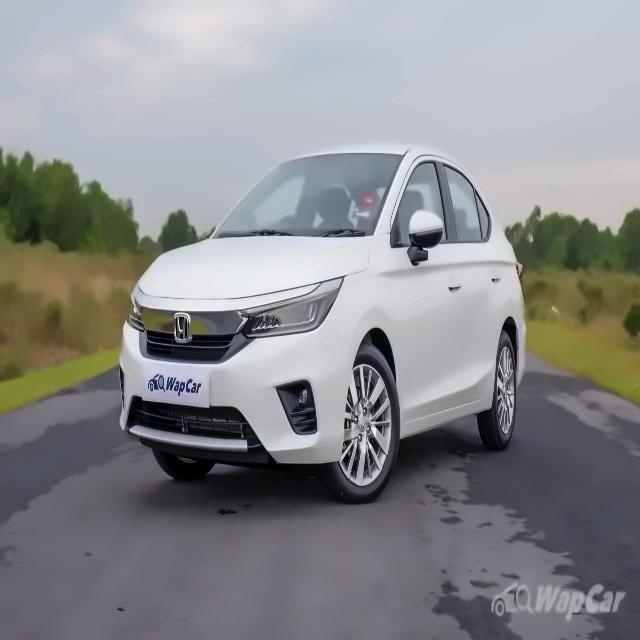Car hood: (135, 232, 371, 315)
Fender - -F-L-: (329, 233, 404, 431)
Fender - -R-L-: (502, 256, 525, 340)
Front bumper: (112, 328, 358, 470)
Headlight - -L-: (233, 272, 352, 342)
Headlight - -R-: (118, 280, 157, 338)
Passenger-s door - -F-L-: (403, 151, 467, 427)
Passenger-s door - -R-L-: (450, 152, 510, 412)
Rear bumper: (512, 328, 538, 398)
Rear light - -L-: (510, 249, 531, 290)
Side bumper - -L-: (396, 389, 498, 442)
Side mirror - -L-: (402, 206, 445, 277)
